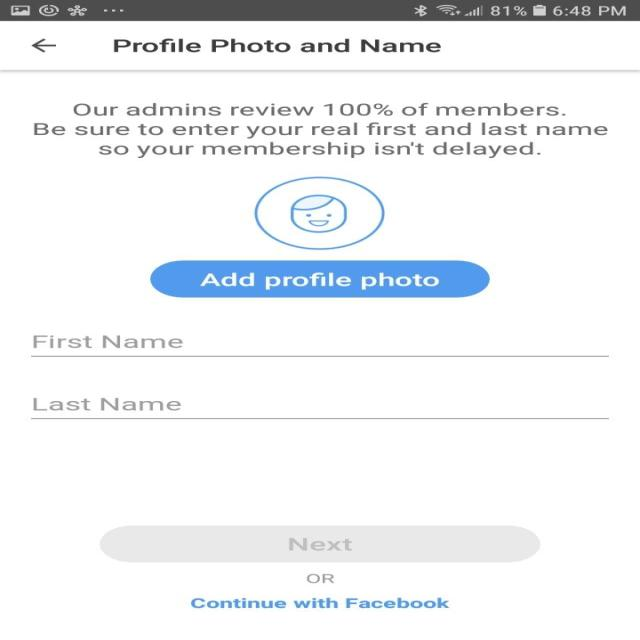EditText: (31, 335, 609, 357), (30, 398, 609, 419)
Icon: (31, 38, 57, 53)
Image: (253, 176, 385, 250)
Text: (33, 102, 607, 158), (113, 38, 441, 53), (190, 597, 449, 608), (33, 335, 183, 348), (32, 398, 182, 410), (304, 573, 334, 583)
TextButton: (98, 526, 540, 562), (150, 260, 490, 297)
